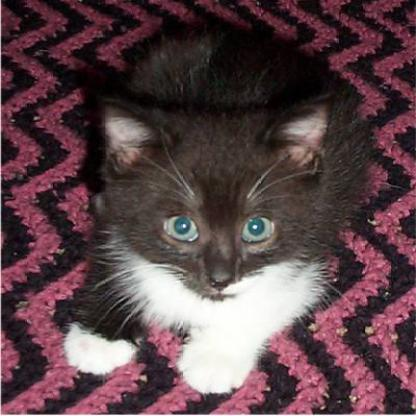cat: (49, 25, 354, 386)
